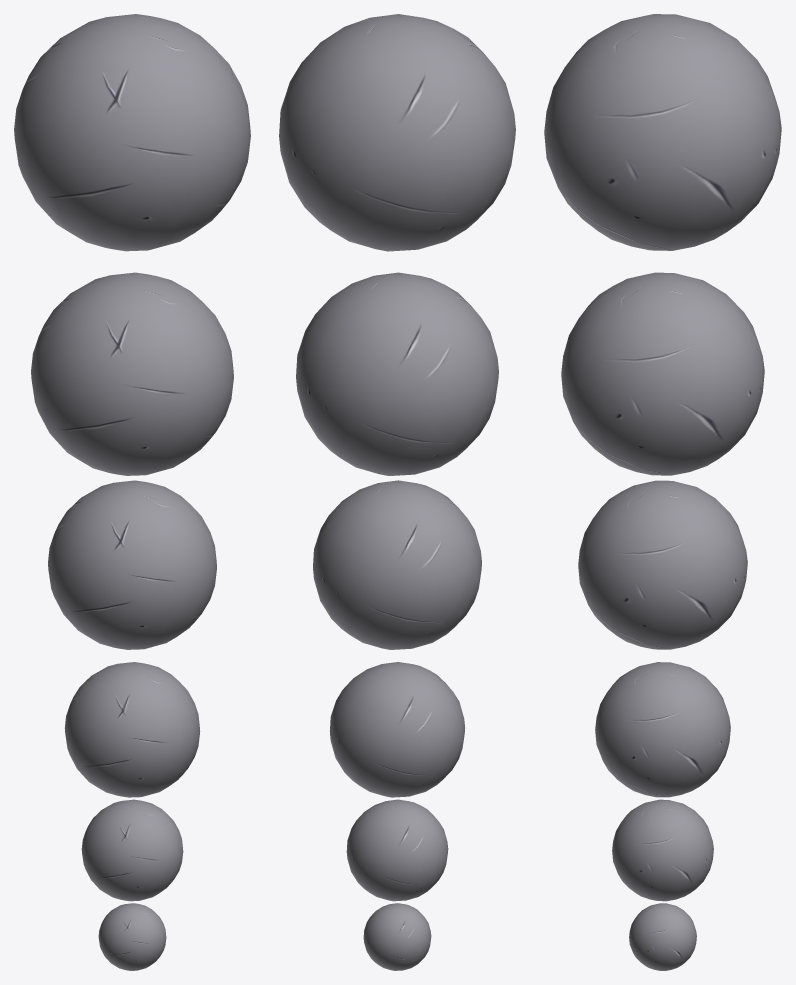
File: Player6Models.fbx
The picture shows the model from 3 angles, left to right: view 1: azimuth 30°, elevation 25°; view 2: azimuth 150°, elevation 25°; view 3: azimuth 270°, elevation 25°; orthographic projection.
Visible parts, largest first — view 1: Player6, Player5, Player4, Player3, Player2, Player1; view 2: Player6, Player5, Player4, Player3, Player2, Player1; view 3: Player6, Player5, Player4, Player3, Player2, Player1.
Boxes of the visible parts, x1=… form: Player6: x1=14, y1=14, x2=250, y2=251; Player5: x1=31, y1=272, x2=233, y2=475; Player4: x1=48, y1=480, x2=216, y2=649; Player3: x1=64, y1=662, x2=200, y2=797; Player2: x1=81, y1=799, x2=183, y2=901; Player1: x1=98, y1=903, x2=166, y2=970; Player6: x1=279, y1=14, x2=515, y2=251; Player5: x1=296, y1=272, x2=498, y2=475; Player4: x1=313, y1=480, x2=481, y2=649; Player3: x1=329, y1=662, x2=464, y2=797; Player2: x1=346, y1=799, x2=448, y2=901; Player1: x1=363, y1=903, x2=431, y2=970; Player6: x1=544, y1=14, x2=781, y2=250; Player5: x1=561, y1=272, x2=764, y2=475; Player4: x1=578, y1=480, x2=747, y2=649; Player3: x1=595, y1=662, x2=730, y2=797; Player2: x1=612, y1=799, x2=713, y2=901; Player1: x1=629, y1=903, x2=696, y2=970.
Size of what is drawn, in the model's own units: 14 by 61.32 by 14.
